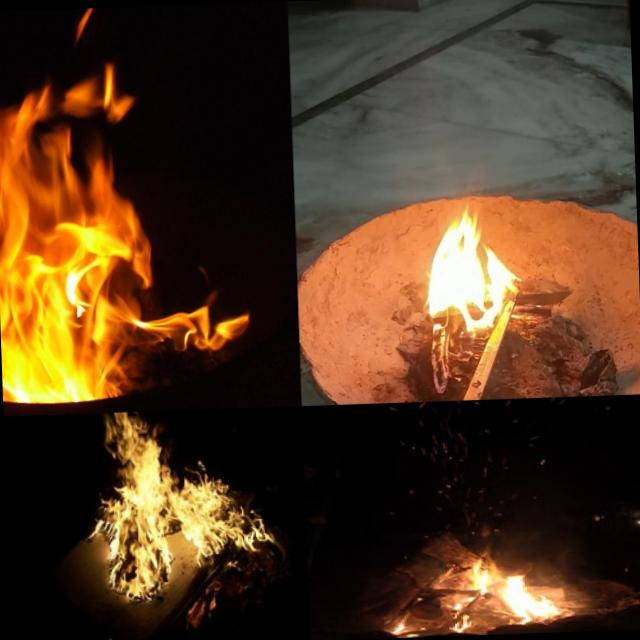fire: (0, 26, 253, 406), (86, 408, 282, 598), (408, 202, 522, 356), (390, 546, 567, 638)
